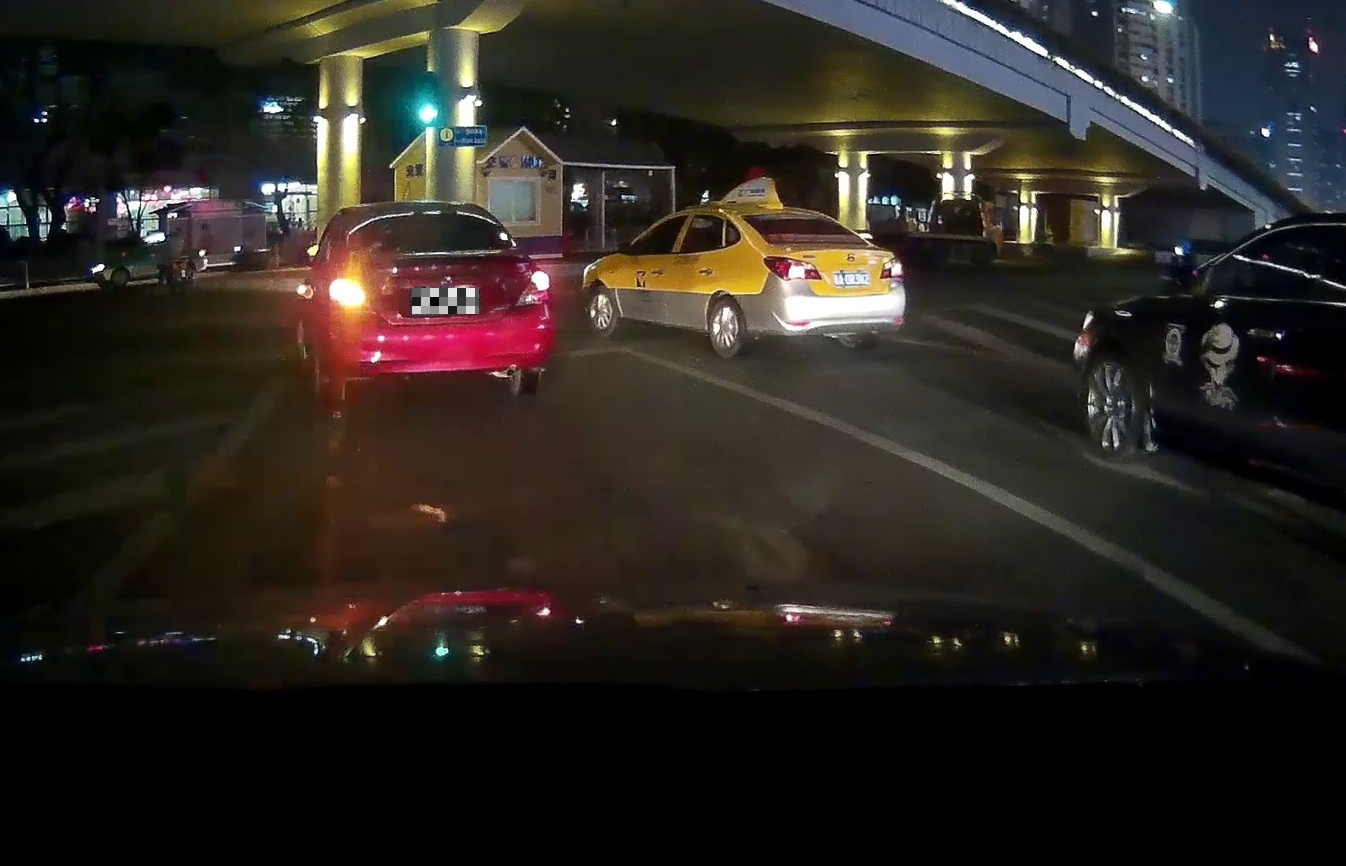L_light: (763, 255, 822, 281), (329, 278, 366, 308)
R_light: (515, 271, 549, 307), (880, 257, 905, 280)
T_light: (807, 239, 831, 243), (414, 214, 442, 217)
night-left: (328, 201, 552, 404)
night-no: (741, 205, 906, 361)
plate_1: (412, 288, 479, 314)
